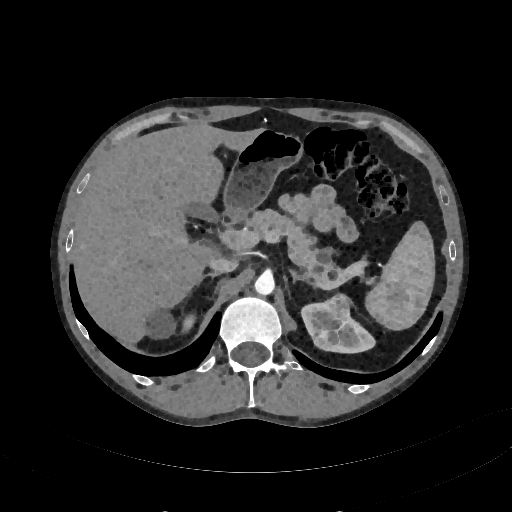Lesion: (313, 329, 329, 350)
